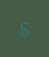six: (19, 19, 27, 37)
